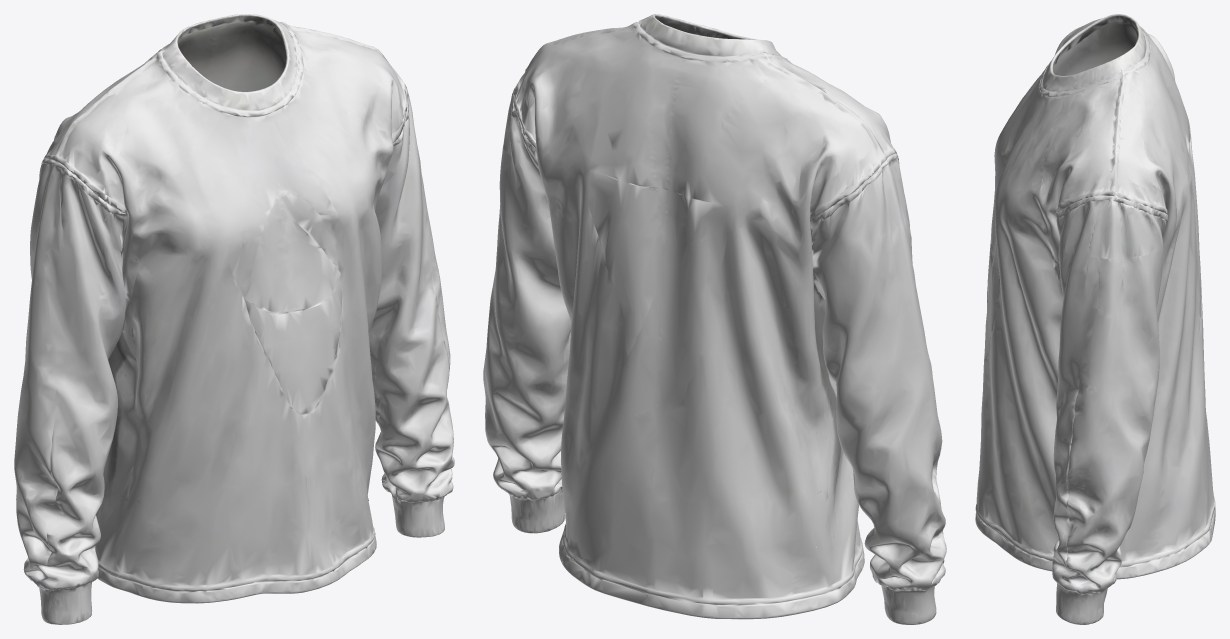
Rendered from longsleeve-blank.glb.
3 renders of one model, left to right at view 1: azimuth 30°, elevation 25°; view 2: azimuth 150°, elevation 25°; view 3: azimuth 270°, elevation 25°, orthographic. The views are drawn at different scales.
Visible parts, largest first — view 1: tripo_node_0750a40b-9c6d-480e-a683-2f0e68ce68d0; view 2: tripo_node_0750a40b-9c6d-480e-a683-2f0e68ce68d0; view 3: tripo_node_0750a40b-9c6d-480e-a683-2f0e68ce68d0.
Part boxes in pixels (x1,y1,x2,y2): tripo_node_0750a40b-9c6d-480e-a683-2f0e68ce68d0: (14, 14, 454, 624); tripo_node_0750a40b-9c6d-480e-a683-2f0e68ce68d0: (483, 14, 946, 624); tripo_node_0750a40b-9c6d-480e-a683-2f0e68ce68d0: (975, 14, 1215, 624).
Size of the model in its own units: 0.6682 by 0.8014 by 0.348.
Materials: 1 (1 with a texture image).
